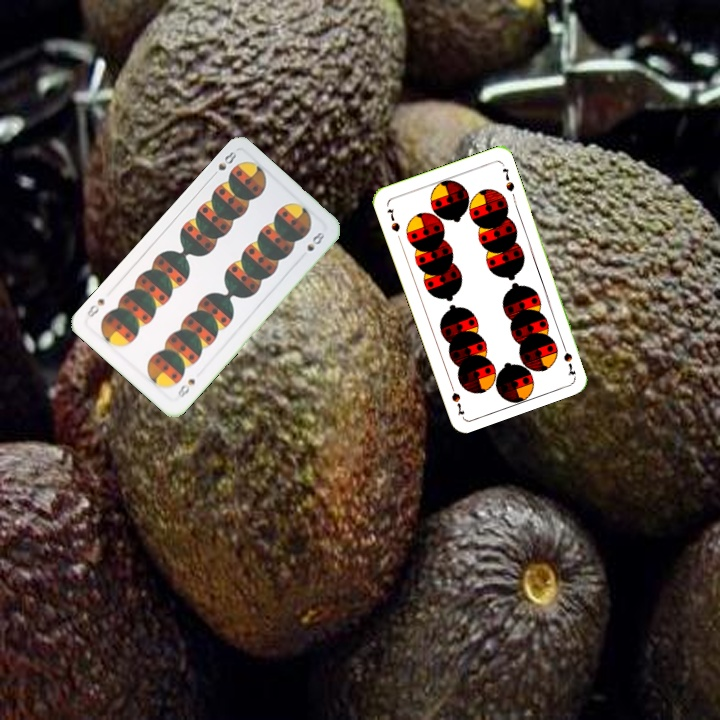S7: (558, 338, 578, 378), (383, 204, 402, 235)
S8: (207, 147, 239, 181), (173, 375, 198, 401)
